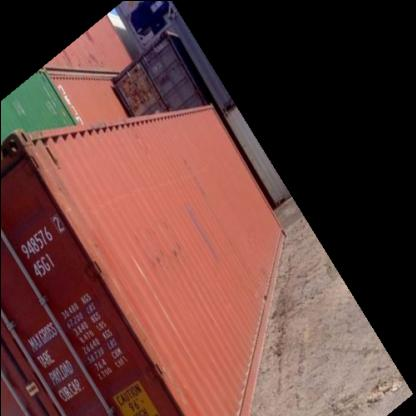Damage: (182, 206, 223, 271), (182, 150, 212, 195), (144, 244, 186, 262), (129, 124, 150, 138)
